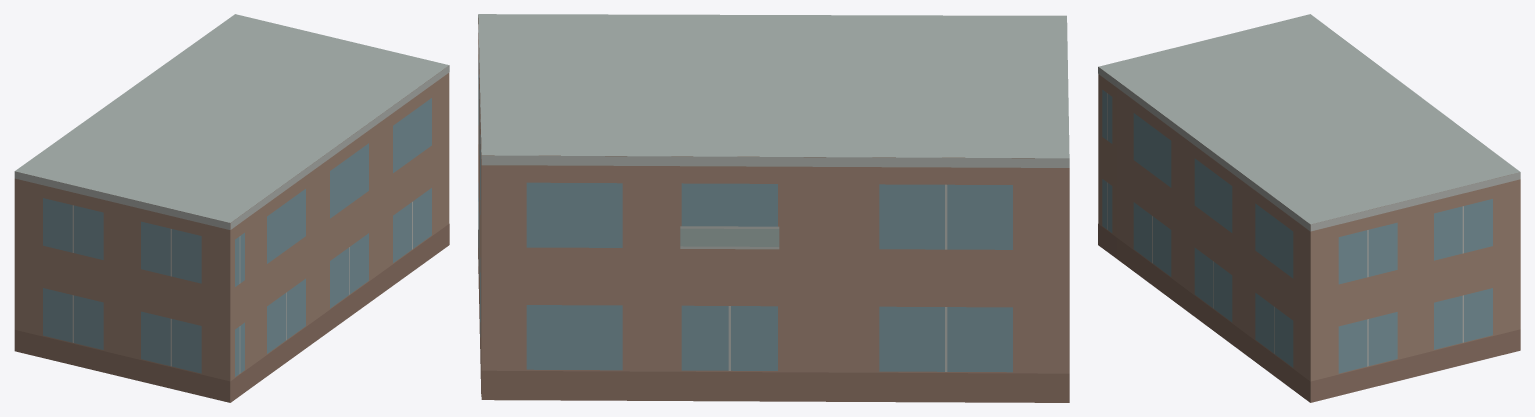
Rendered from survey-upis-32695348.glb.
3 views of the same model, side by side, from view 1: azimuth 30°, elevation 25°; view 2: azimuth 150°, elevation 25°; view 3: azimuth 270°, elevation 25° (orthographic). The views are drawn at different scales.
Visible parts, largest first — view 1: survey-upis-32695348.tmp; view 2: survey-upis-32695348.tmp; view 3: survey-upis-32695348.tmp.
Part boxes in pixels (x1=…): survey-upis-32695348.tmp: x1=14, y1=14, x2=449, y2=402; survey-upis-32695348.tmp: x1=478, y1=14, x2=1069, y2=402; survey-upis-32695348.tmp: x1=1098, y1=14, x2=1520, y2=402.
Size of the model in its own units: 15.44 by 6.1 by 13.1.
